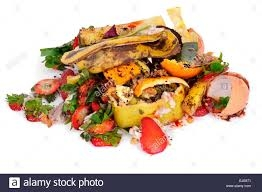kitchen_waste: (51, 23, 186, 70), (106, 96, 186, 132), (203, 69, 256, 122), (136, 114, 174, 162), (99, 58, 156, 89), (129, 75, 194, 97), (157, 57, 209, 80), (22, 101, 54, 131), (88, 113, 121, 141), (30, 75, 69, 97), (76, 77, 99, 105), (70, 104, 91, 132), (5, 90, 27, 114)
